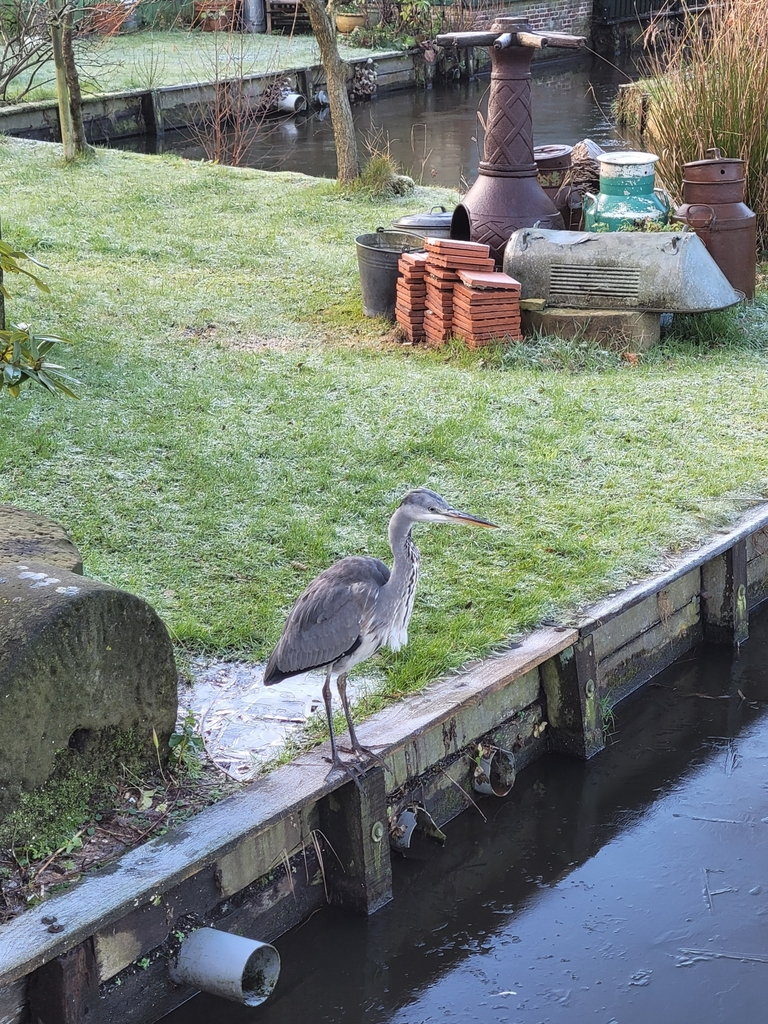heron: (258, 483, 505, 809)
